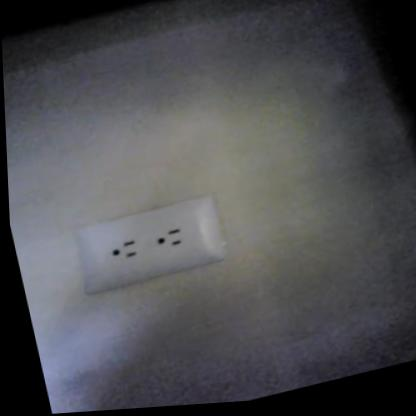OUTLET: (72, 193, 233, 295)
